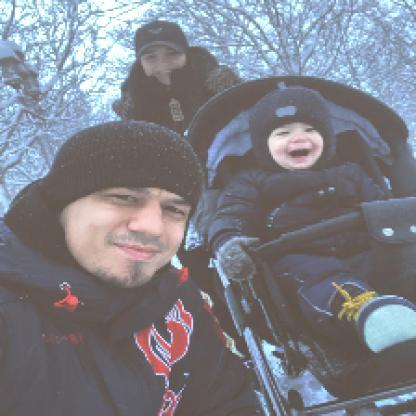child: (205, 85, 415, 358)
